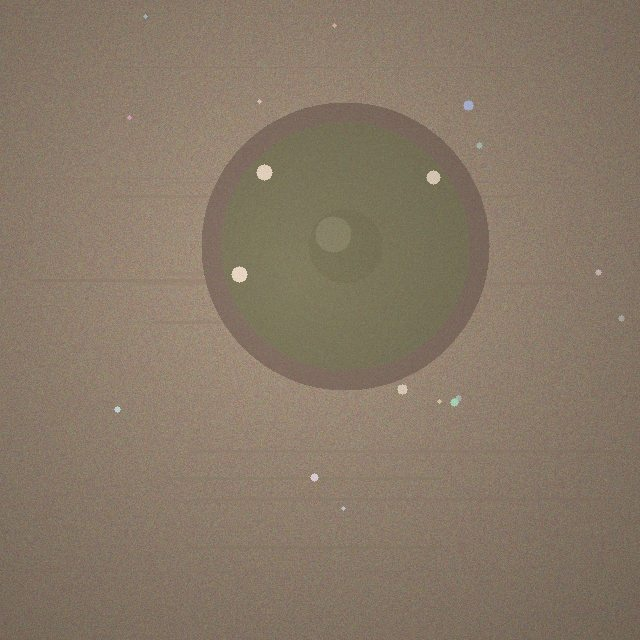overburn: (201, 102, 489, 390)
